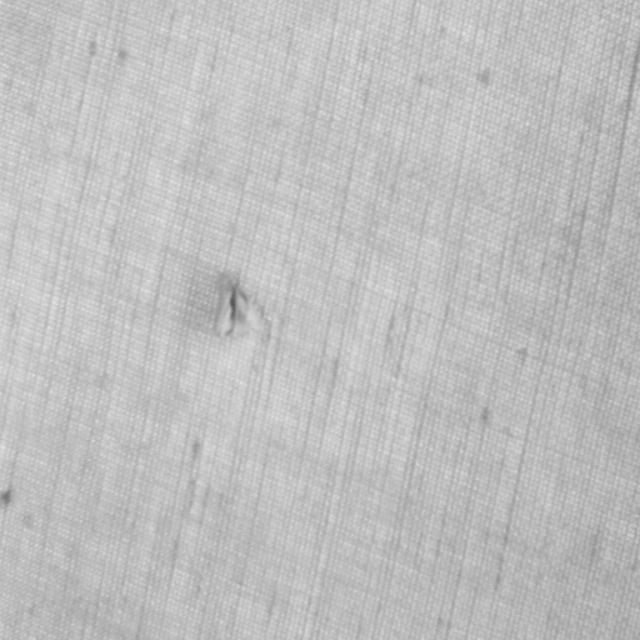objects: (210, 270, 252, 339)
